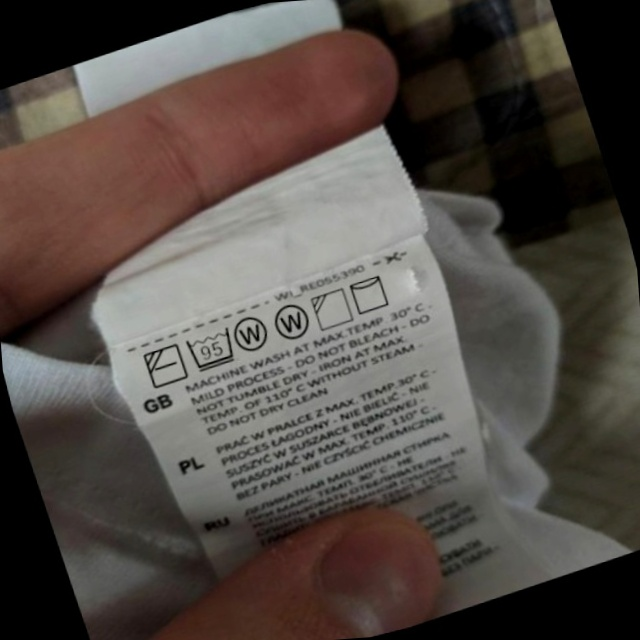95C: (181, 322, 242, 376)
dry_flat_in_shade: (139, 338, 191, 393)
line_dry: (344, 268, 396, 319)
shade_dry: (307, 283, 358, 335)
wet_clean: (268, 297, 317, 348), (228, 307, 276, 358)
